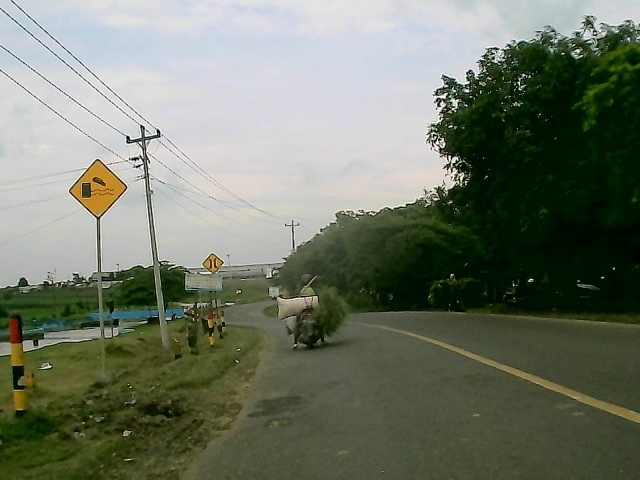Jembatan: (201, 252, 226, 276)
Peringatan tepi air: (66, 157, 132, 221)
